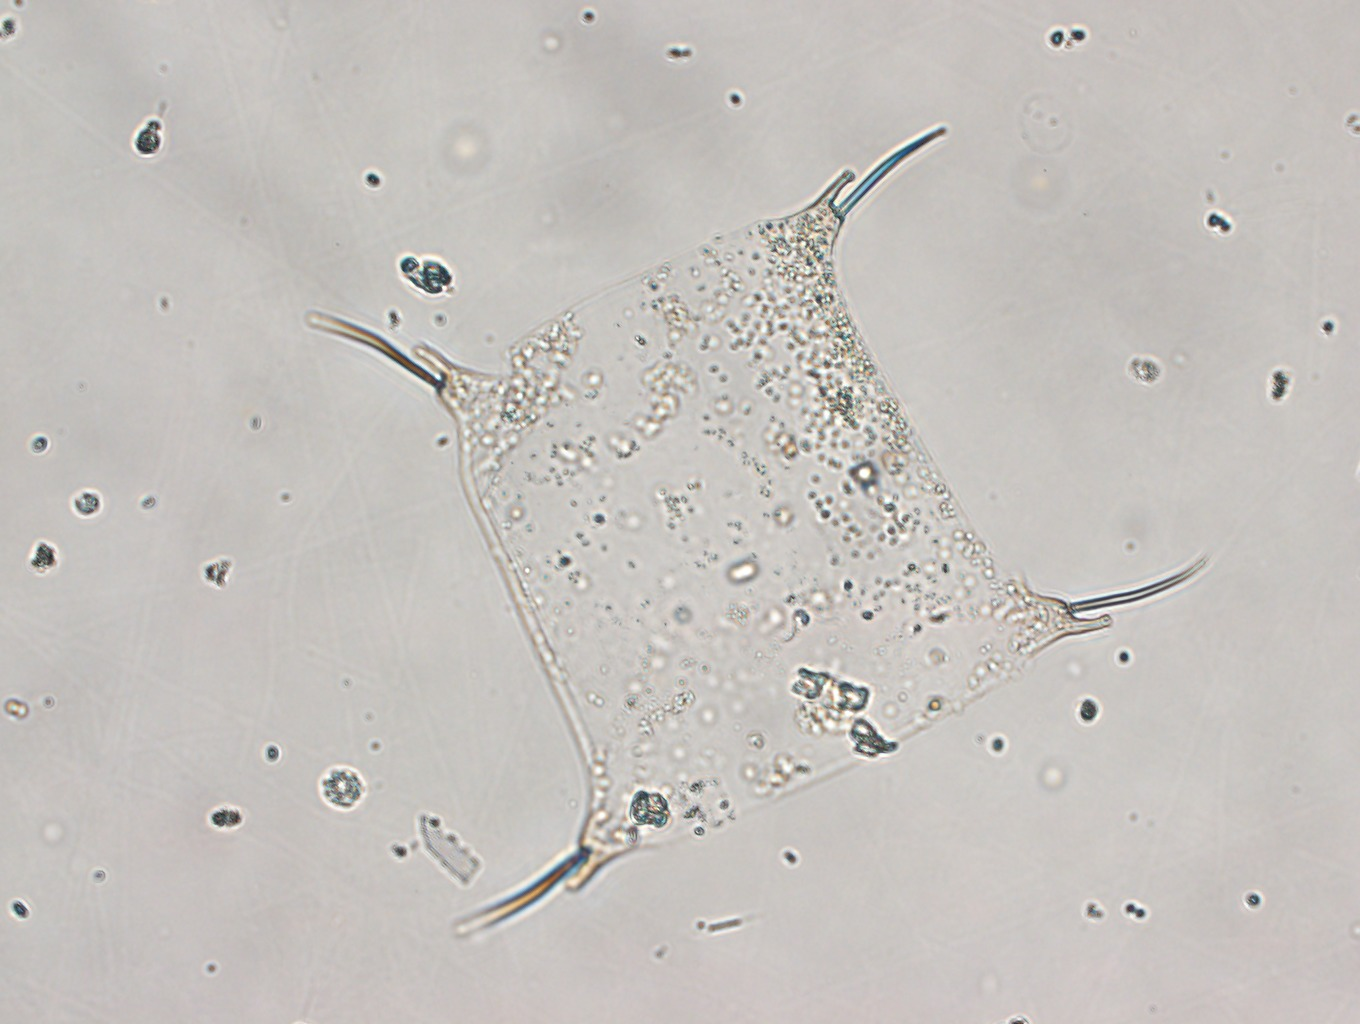biddulphia: (305, 124, 1211, 936)
